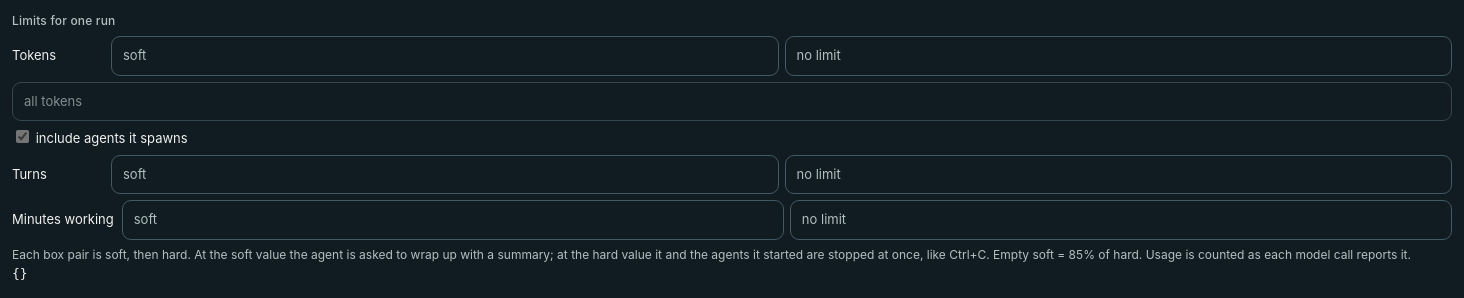
Test: agent limits › turn and time limits have their own soft and hard values, and clearing hard removes them
Type "12" into the number field named "Turns: hard (turns)" at [1118, 174], box [784, 154, 1452, 194]
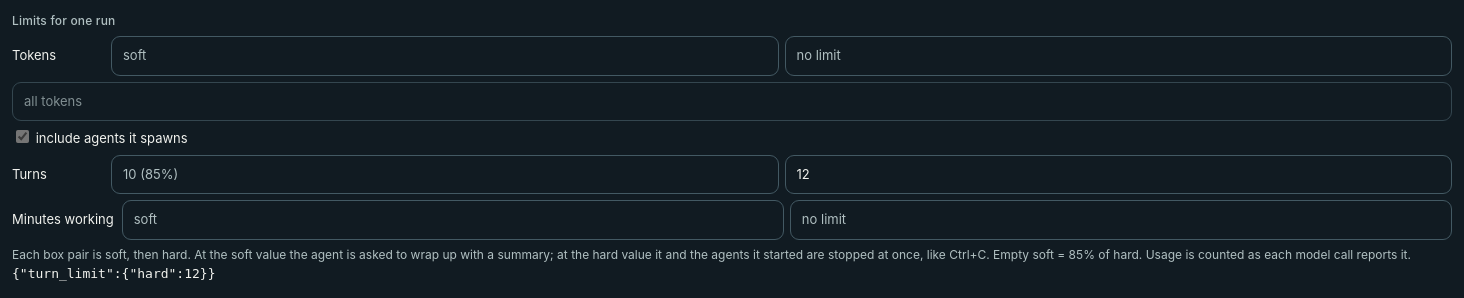
Type "45" into the number field named "Minutes working: hard (minutes)" at [1121, 220], box [790, 200, 1452, 240]
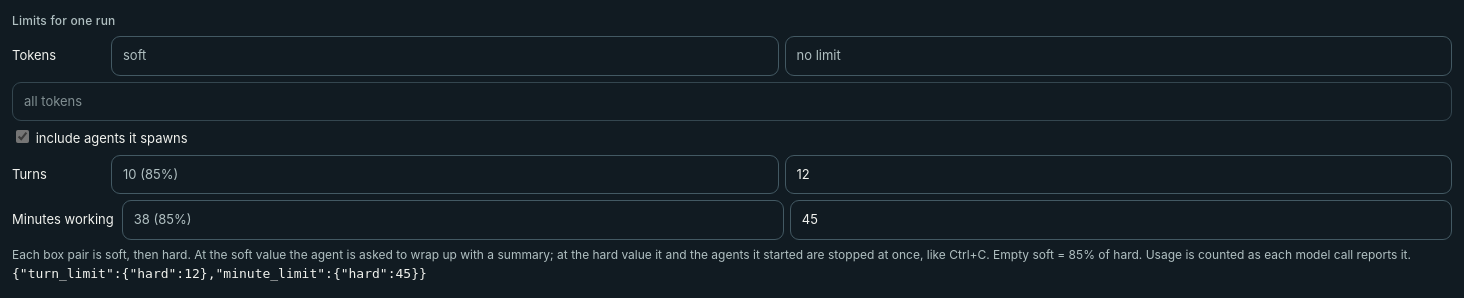
Type "30" into the number field named "Minutes working: soft (minutes)" at [453, 220], box [122, 200, 784, 240]
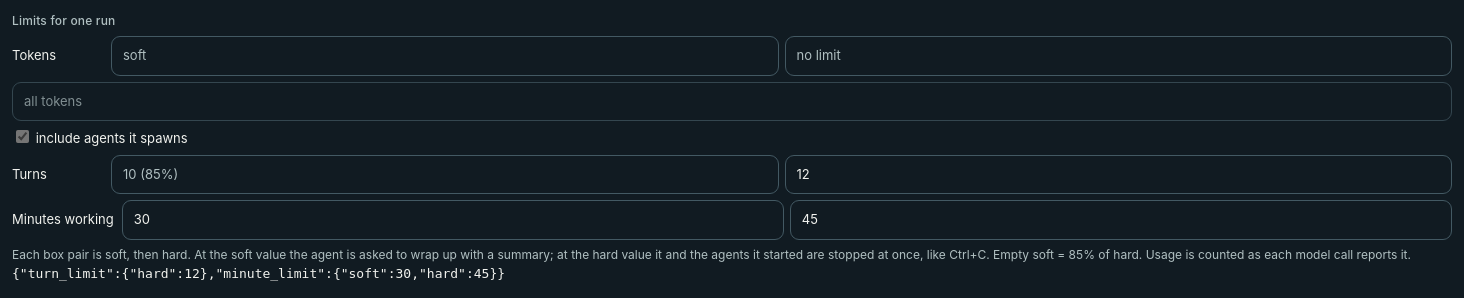
Clear the number field named "Turns: hard (turns)" at [1118, 174], box [784, 154, 1452, 194]
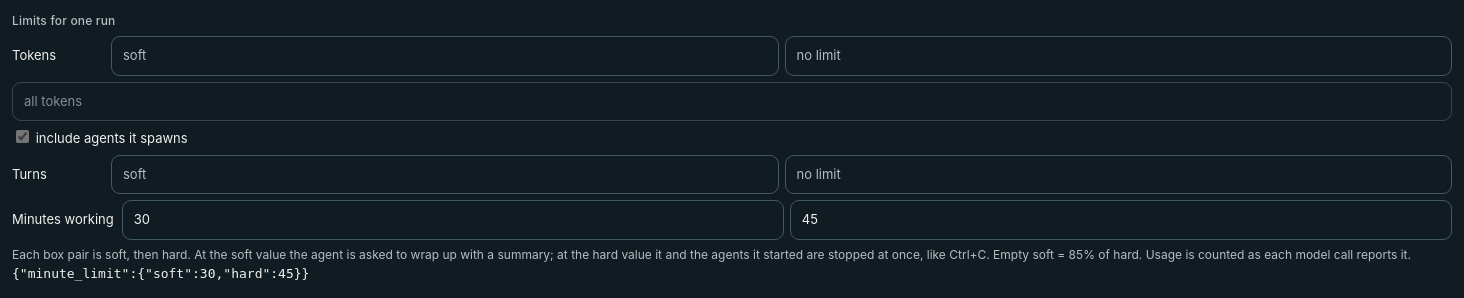
Expected: the number field named "Turns: soft (turns)" is disabled, [111, 154, 778, 194]
